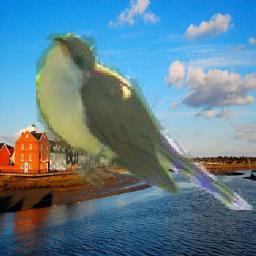Cuckoo: (37, 34, 256, 211)
